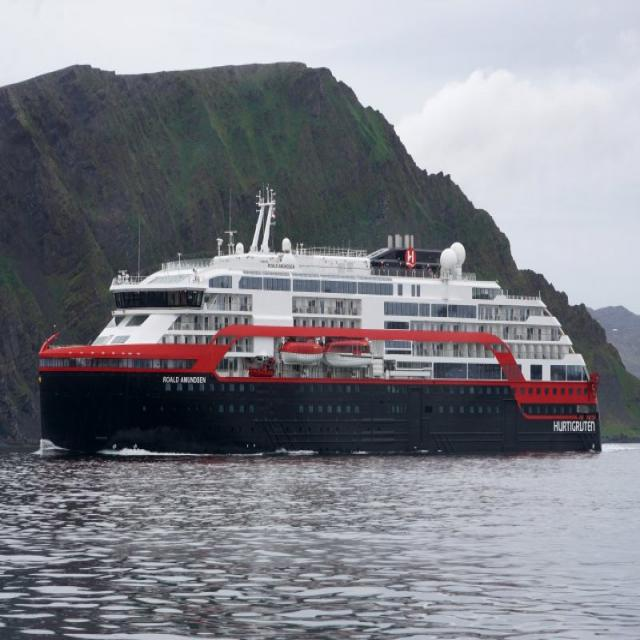cruises: (36, 186, 606, 469)
